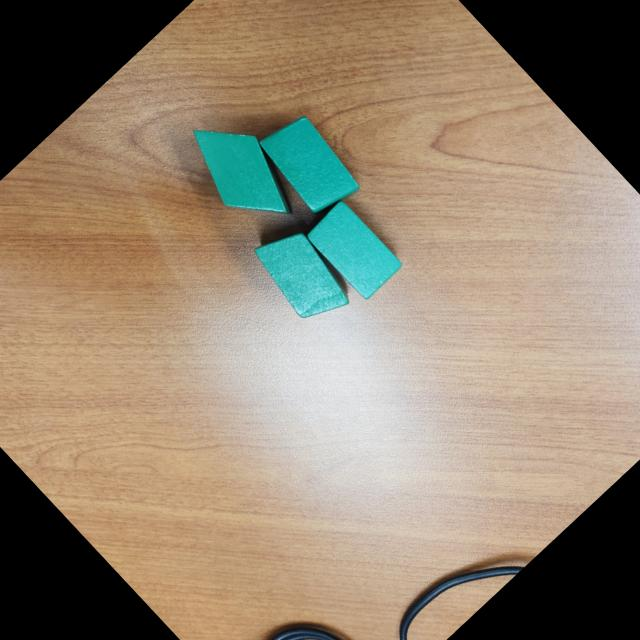green: (170, 100, 314, 247), (243, 214, 363, 336), (252, 105, 368, 222), (302, 196, 408, 304)
